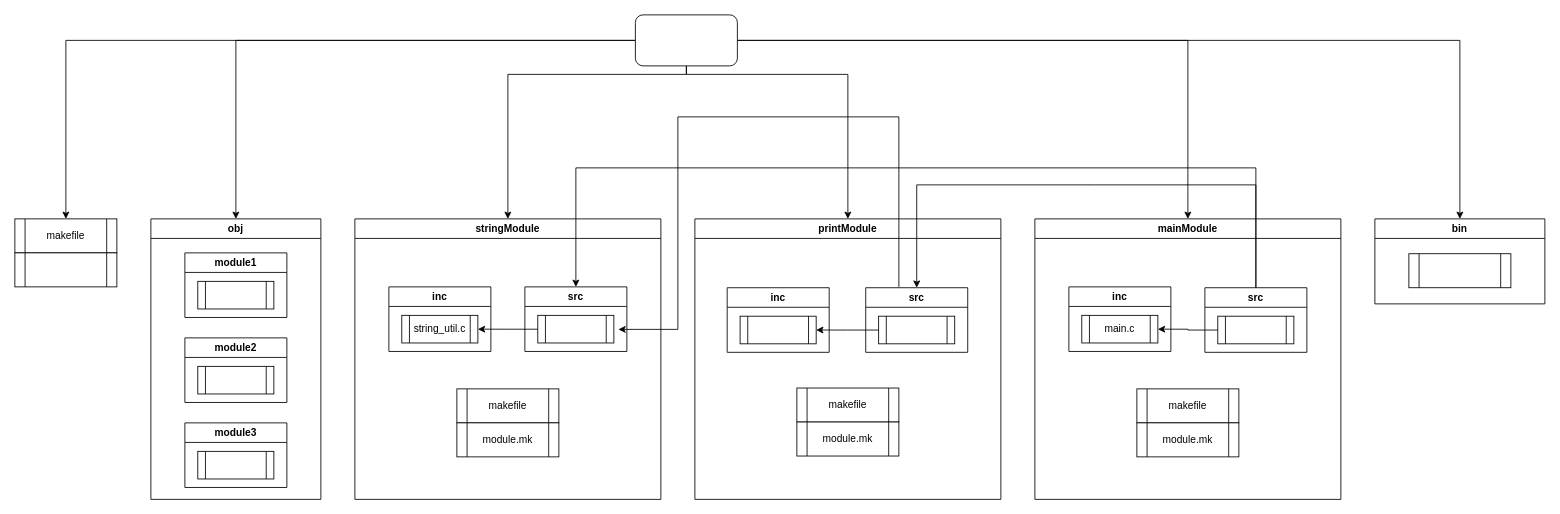
Some shapes in this 1560 by 514 pixel diagram are drawn without their labels. The shapes that lost their labels are listed below. From the top down, each one's centre as x and y in pixels, then its label:
At pixel 686 40: "project".
At pixel 65 269: "common.mk".
At pixel 1459 270: "myprogram".
At pixel 235 294: "string_util.o".
At pixel 575 328: "string_util.h".
At pixel 777 329: "print_util.c".
At pixel 916 329: "print_util.h".
At pixel 1255 329: "main.h".
At pixel 235 380: "print_util.o".
At pixel 235 464: "main.o".
